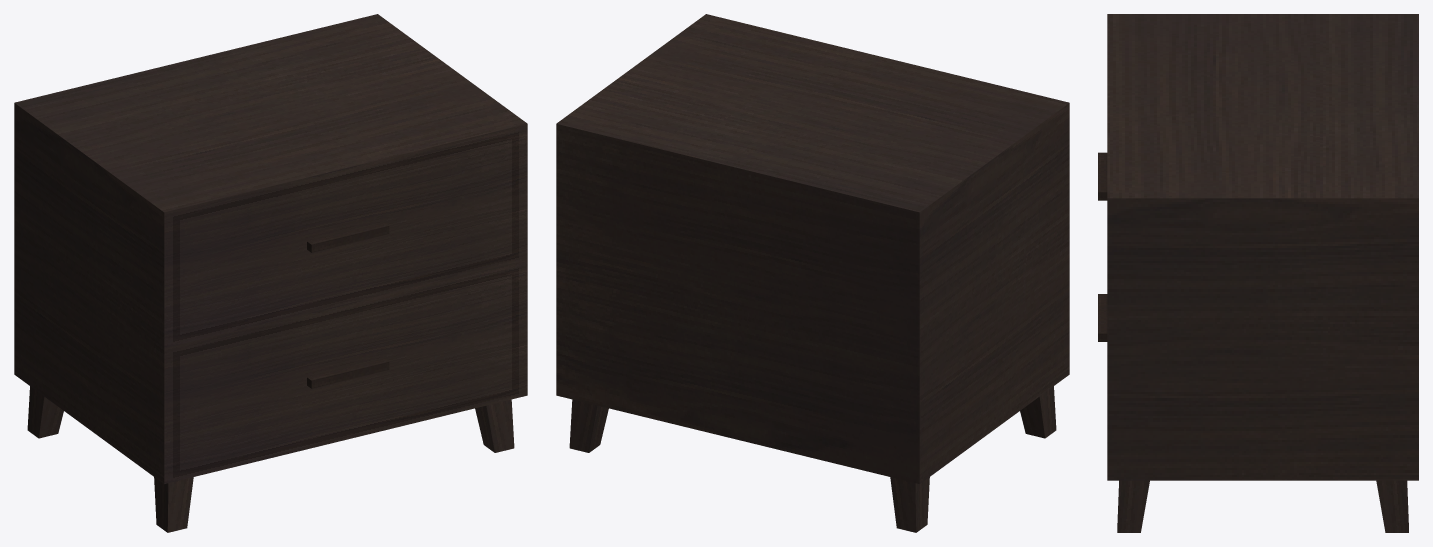
The model's file is psx_drawer.glb.
The picture shows the model from 3 angles, left to right: view 1: azimuth 30°, elevation 25°; view 2: azimuth 150°, elevation 25°; view 3: azimuth 270°, elevation 25°; orthographic projection. The views are drawn at different scales.
Parts seen in each view (by area): view 1: Drawer; view 2: Drawer; view 3: Drawer.
Part boxes in pixels (bbox=[...]): Drawer: bbox=[14, 14, 527, 532]; Drawer: bbox=[556, 14, 1069, 532]; Drawer: bbox=[1098, 14, 1418, 532].
Bounding box in the file's own units: 0.7 × 0.6 × 0.515.
1 material, 1 textured.
